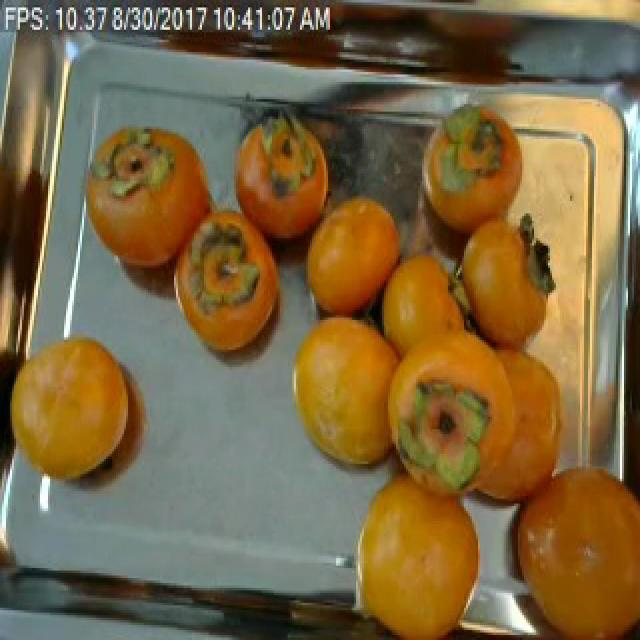Fruit: (272, 298, 438, 496), (332, 451, 504, 640), (4, 318, 170, 501), (162, 189, 290, 382), (216, 97, 342, 260), (294, 181, 412, 337)
